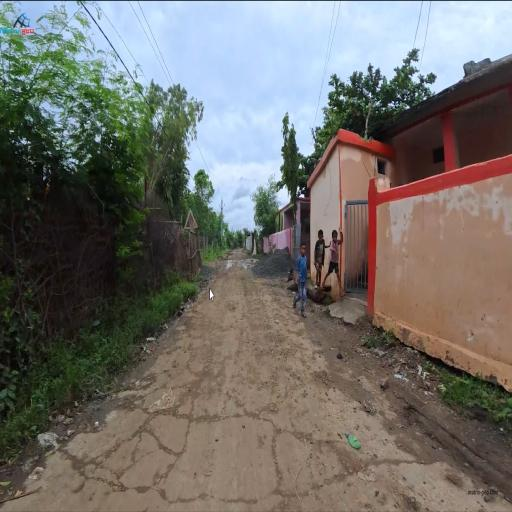alligator_crack: (193, 320, 320, 496), (123, 414, 175, 491)
